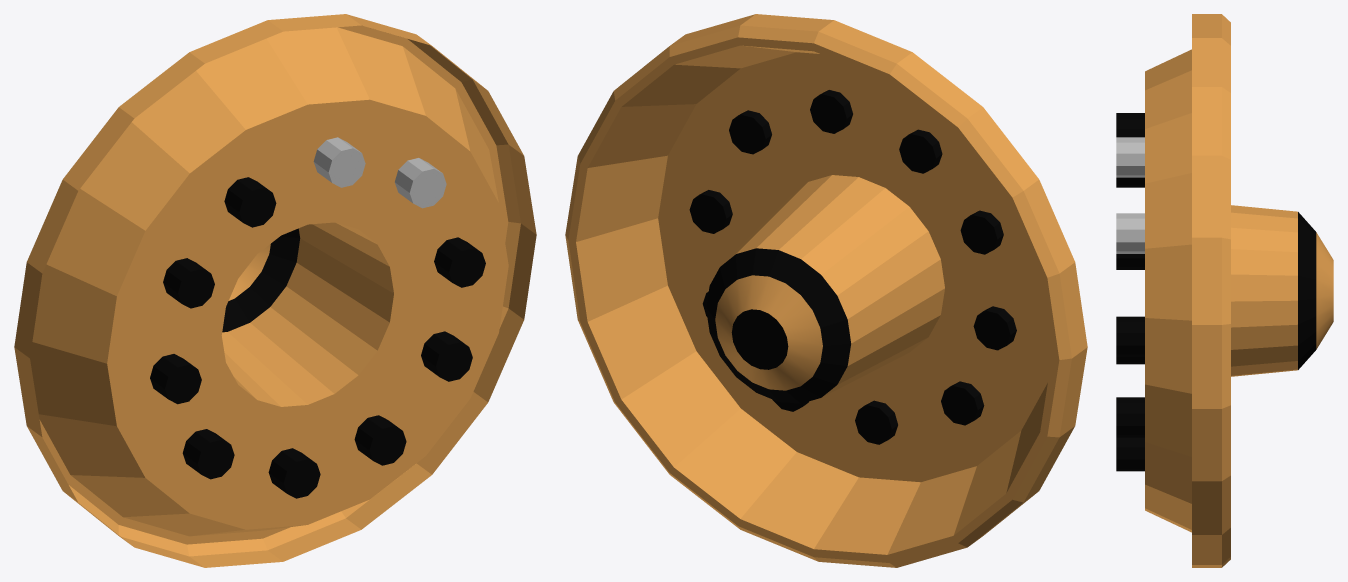
File: Ring2.fbx
3 renders of one model, left to right at view 1: azimuth 30°, elevation 25°; view 2: azimuth 150°, elevation 25°; view 3: azimuth 270°, elevation 25°, orthographic. The views are drawn at different scales.
Visible parts, largest first — view 1: polySurface9; view 2: polySurface9; view 3: polySurface9.
Boxes of the visible parts, x1,y1,x2,y2 form: polySurface9: [14, 14, 536, 567]; polySurface9: [565, 14, 1087, 567]; polySurface9: [1116, 14, 1333, 567].
Bounding box in the file's own units: 0.0291 × 0.0291 × 0.0113.
